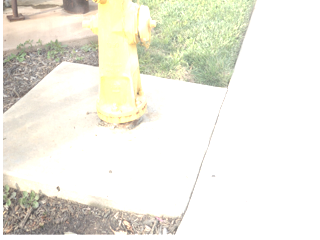Edge: (2, 178, 181, 233), (1, 61, 94, 116), (141, 73, 228, 90)
Obstacle: (95, 1, 149, 130)
